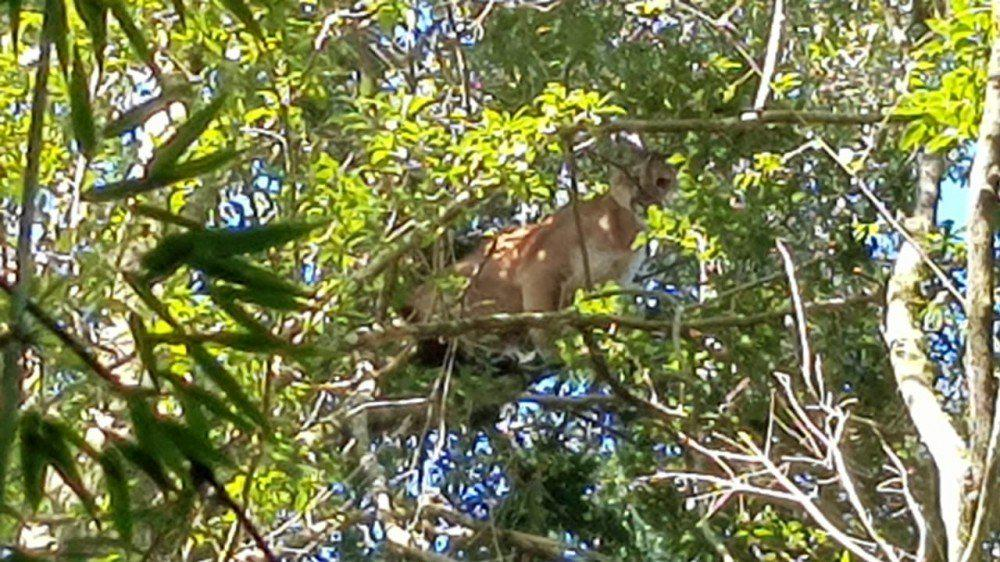OncaParda: (406, 139, 681, 355)
